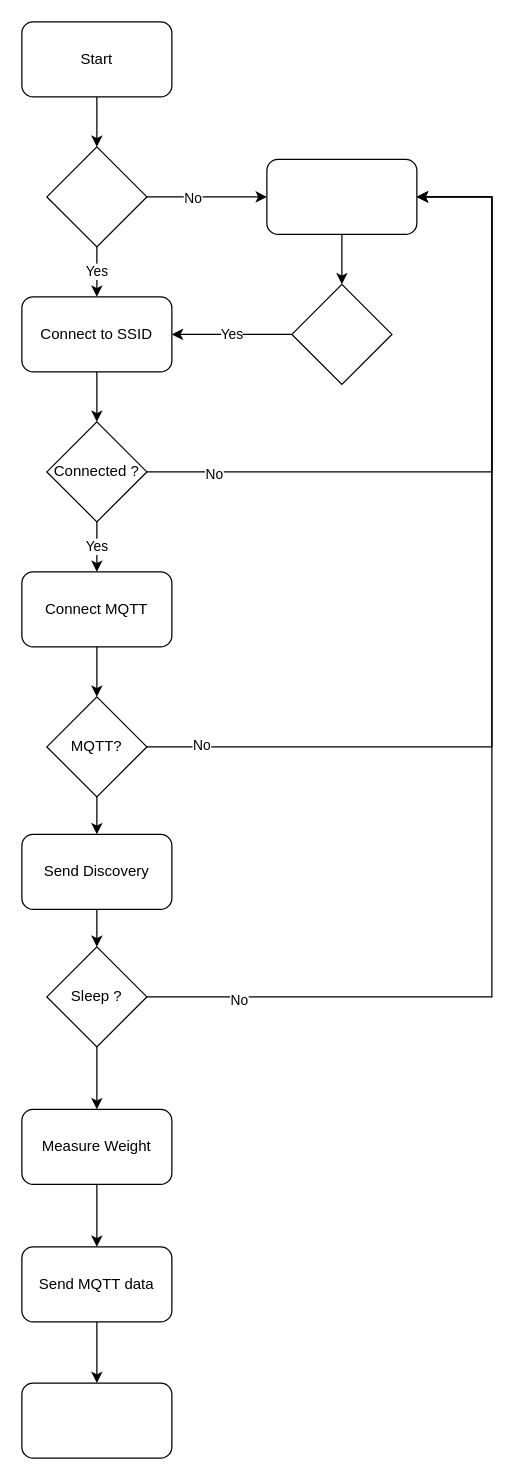
Some shapes in this 524 by 1480 pixel diagram are drawn without their labels. The shapes that lost their labels are listed below. From the top down, each one's centre as x and y in pixels, then its label:
At (x=96, y=196): "WIFI ?".
At (x=341, y=196): "Create WebServer".
At (x=341, y=333): "New data?".
At (x=96, y=1420): "Sleep".
